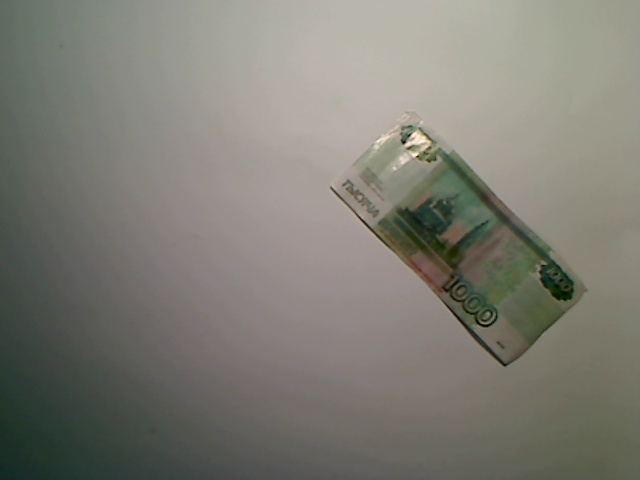banknotes: (327, 110, 589, 368)
